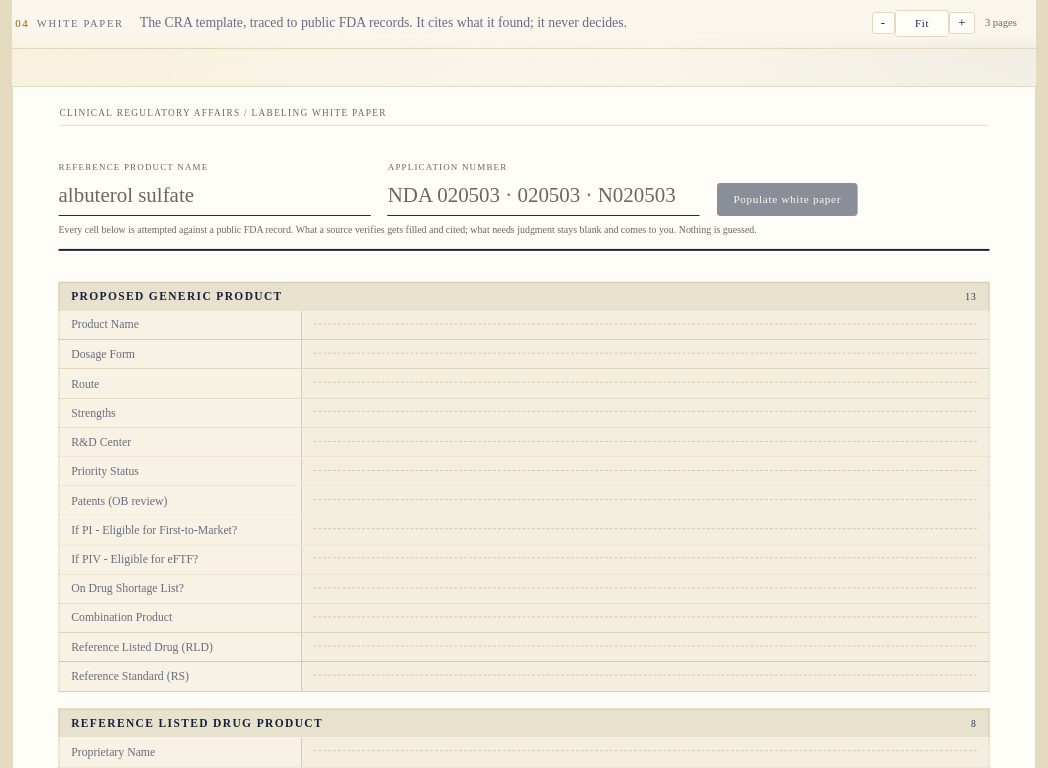
Scenario: WhitepaperPage -- durable runs workflow (surface 04) › the fill-in cascade plays on the document that was just populated
The width and height of the screenshot is (1048, 768).
Step 1. Type "albuterol" into the field with placeholder "albuterol sulfate" → (215,196), box [58, 175, 371, 216]
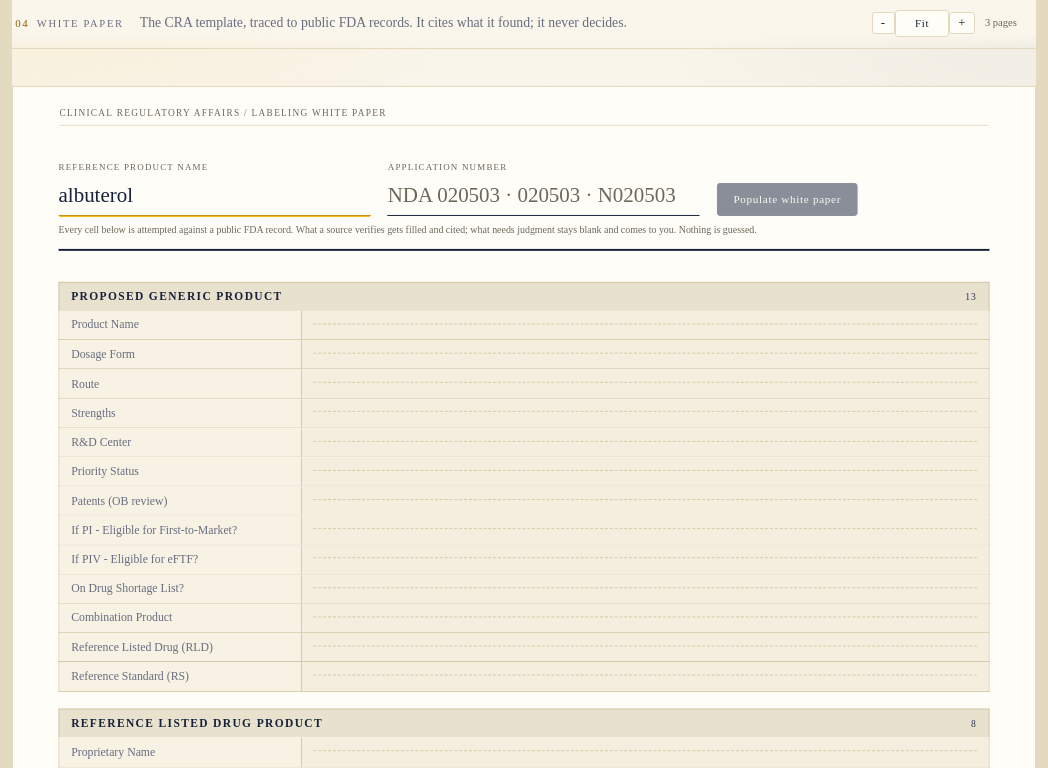
Step 2. Type "020503" into the field with placeholder "NDA 020503 · 020503 · N020503" → (544,196), box [388, 175, 700, 216]
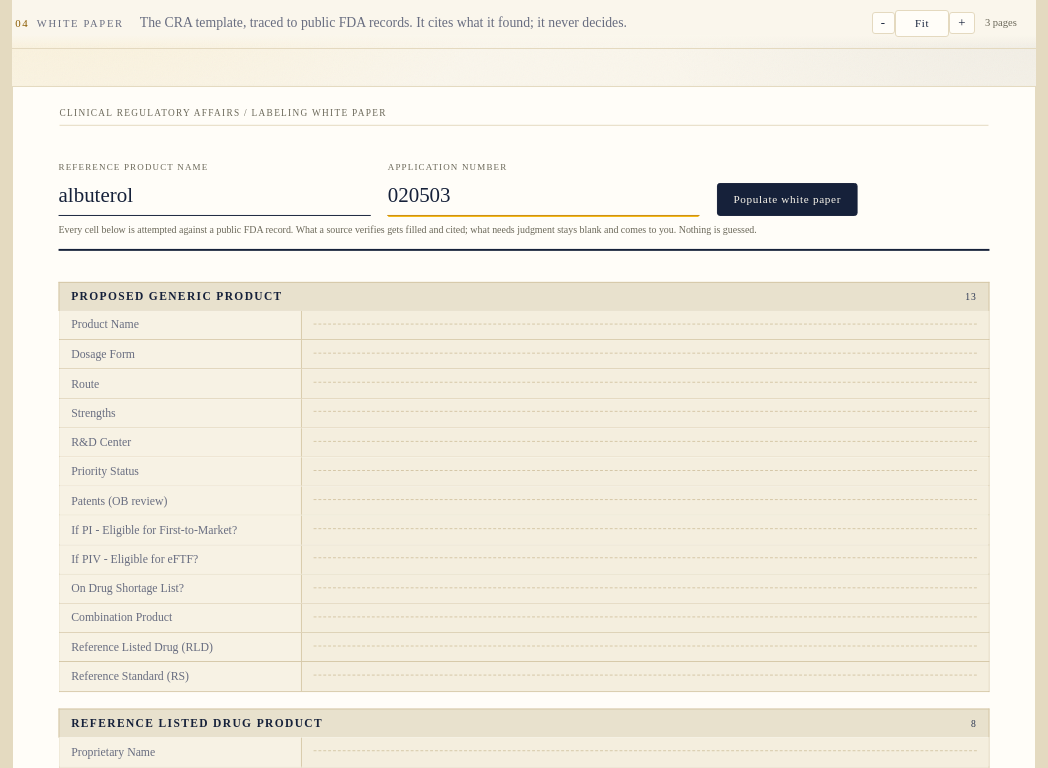
Step 3. Click the button "Populate white paper" → (787,200), box [717, 183, 858, 216]
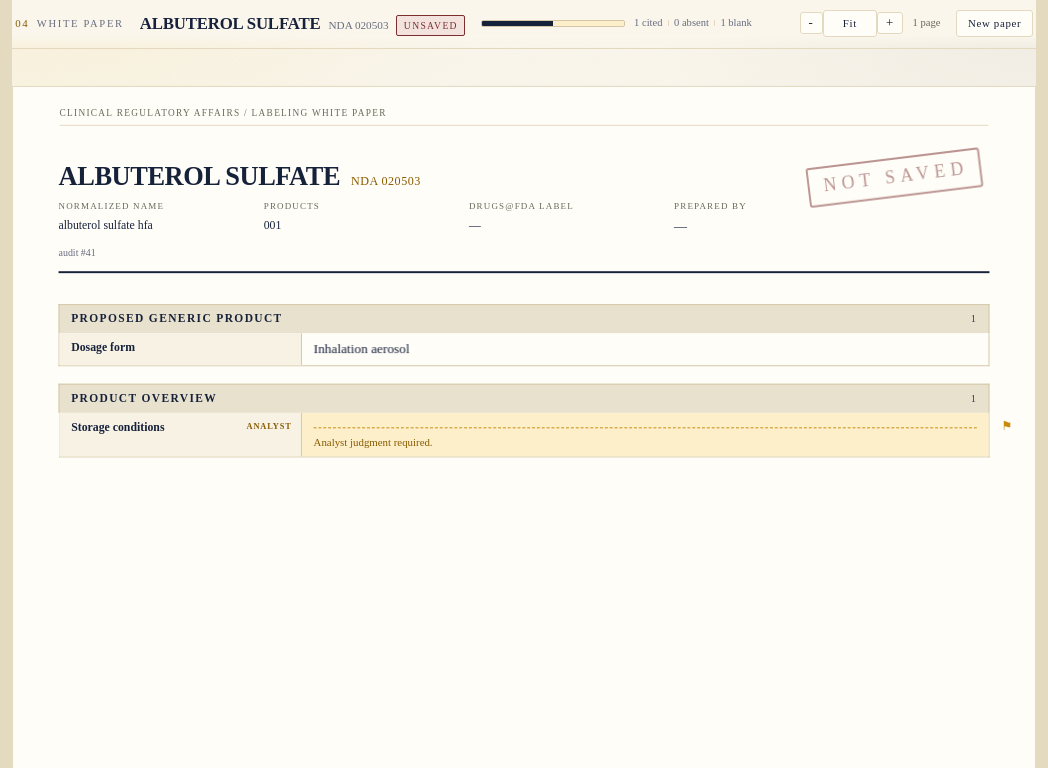
Check: the text "not saved" is shown, box [805, 147, 983, 208]
Check: the element with class "wp-ink" is shown, box [314, 341, 410, 356]
